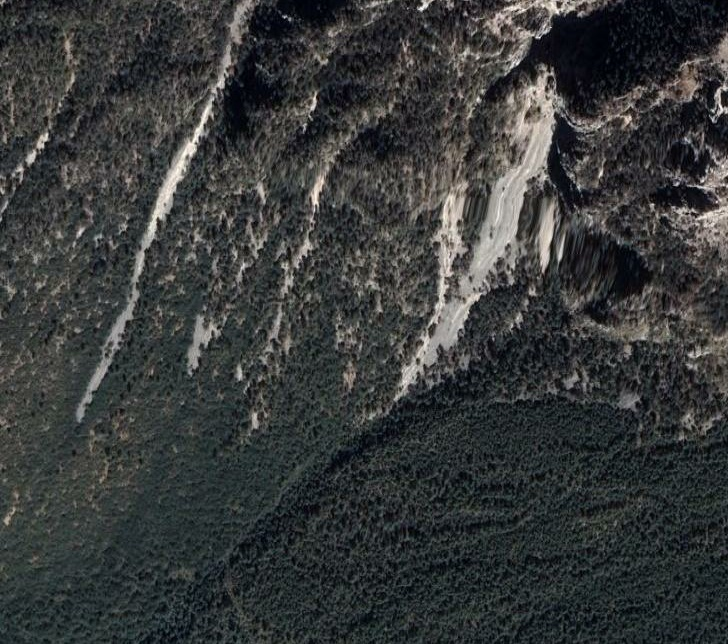slope: (391, 66, 575, 398)
